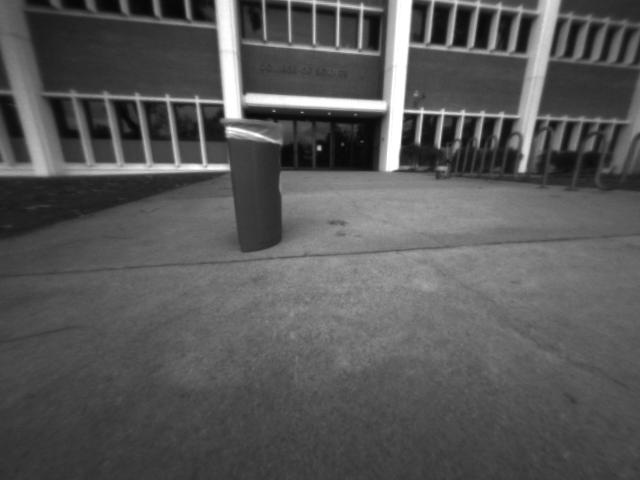trashcan_open: (214, 114, 286, 252)
